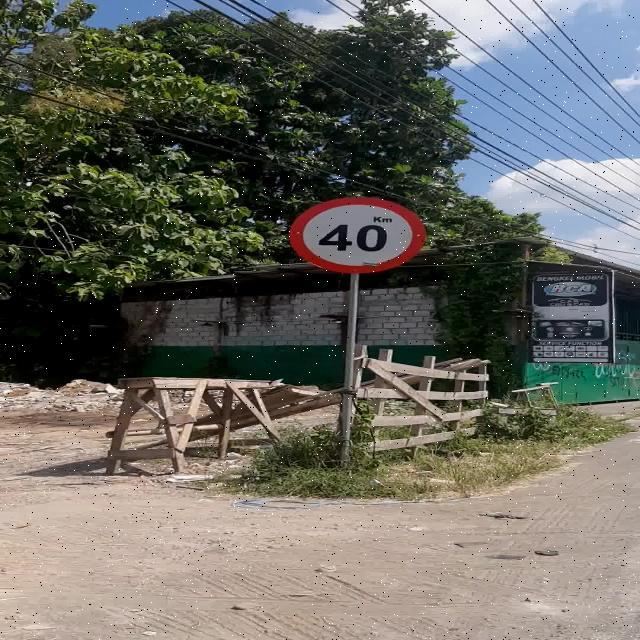Kecepatan Maks. 40 km: (288, 197, 426, 274)
